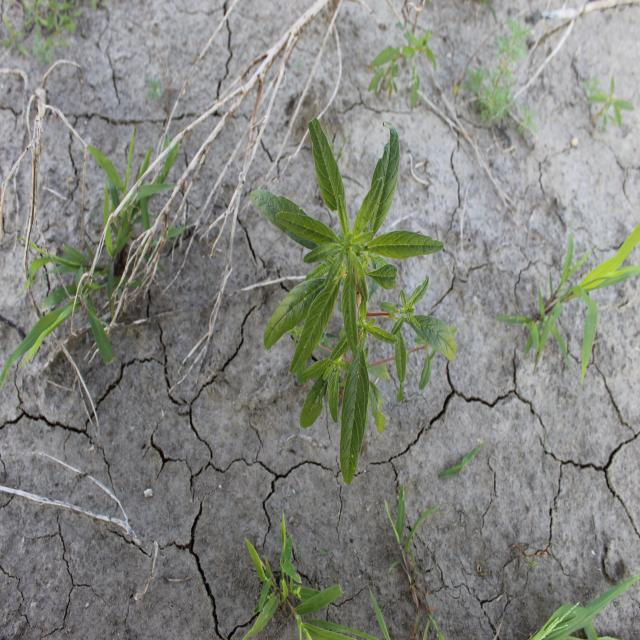Waterhemp: (248, 115, 459, 488)
